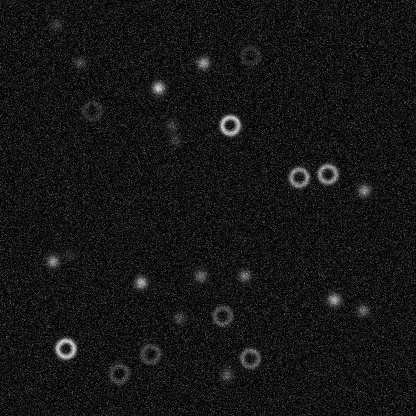Ring: (217, 113, 241, 137), (210, 303, 234, 327), (238, 43, 262, 67), (53, 336, 77, 360), (138, 342, 162, 366), (80, 98, 104, 122), (315, 161, 339, 185), (237, 346, 261, 370), (107, 361, 131, 385), (286, 165, 310, 189)
Spot: (236, 267, 252, 283), (354, 302, 370, 318), (218, 366, 234, 382), (47, 16, 63, 32), (132, 274, 148, 290), (44, 253, 60, 269), (355, 182, 371, 198), (192, 267, 208, 283), (170, 309, 186, 325), (71, 54, 87, 70), (167, 131, 183, 147), (163, 117, 179, 133), (150, 79, 166, 95), (61, 246, 77, 262), (325, 291, 341, 307), (195, 54, 211, 70)
